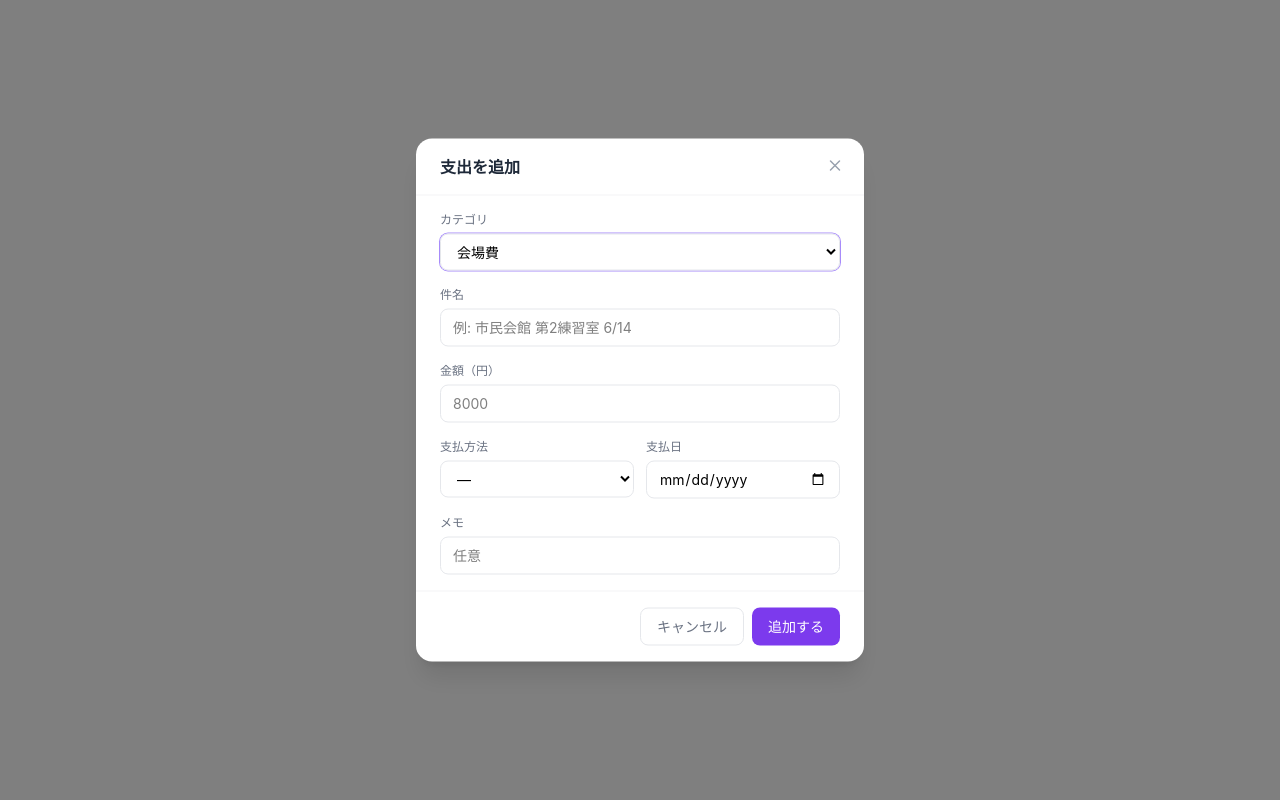
it: ExpenseModal（新規追加） › 金額が0以下の場合はエラーを表示する
Type "テスト" into the field with placeholder "例: 市民会館 第2練習室 6/14".
click(640, 328); type("テスト")  # box x1=440 y1=308 x2=840 y2=346
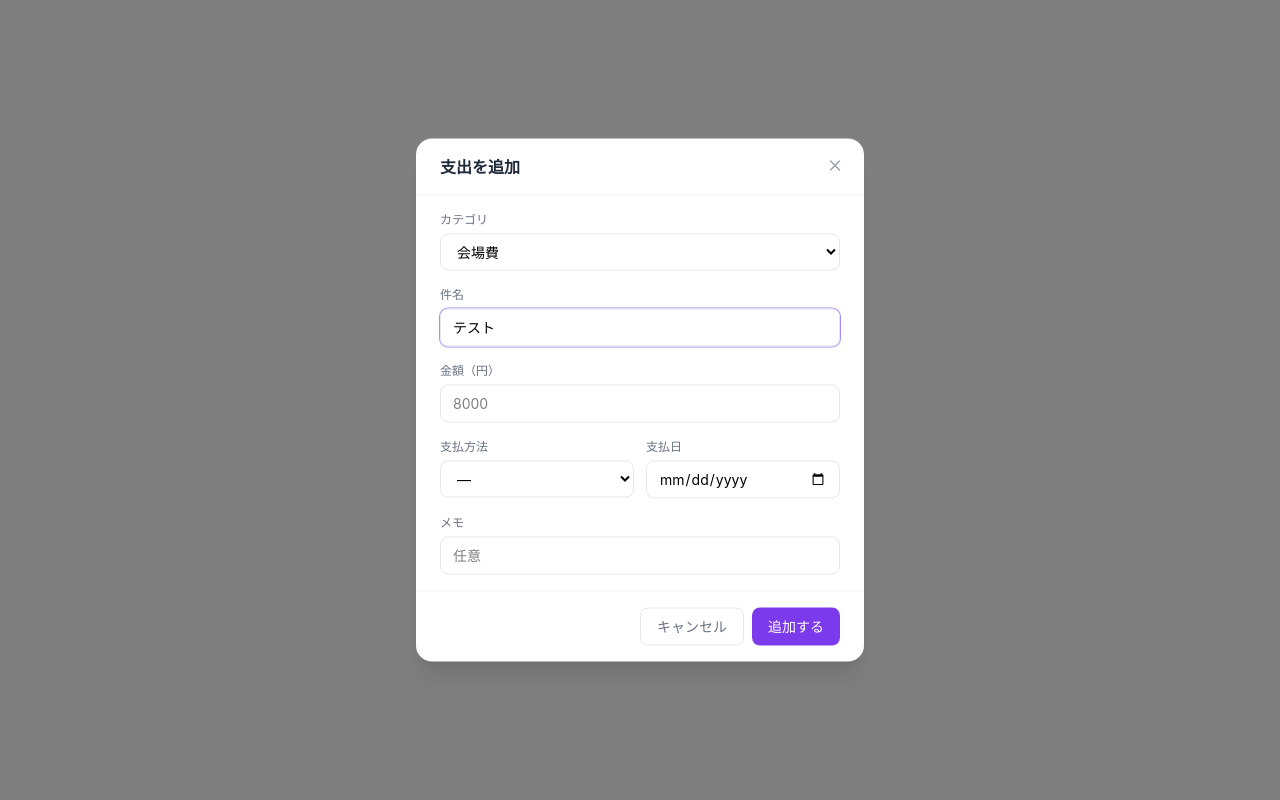
Type "0" into the number field with placeholder "8000".
click(640, 404); type("0")  # box x1=440 y1=384 x2=840 y2=422
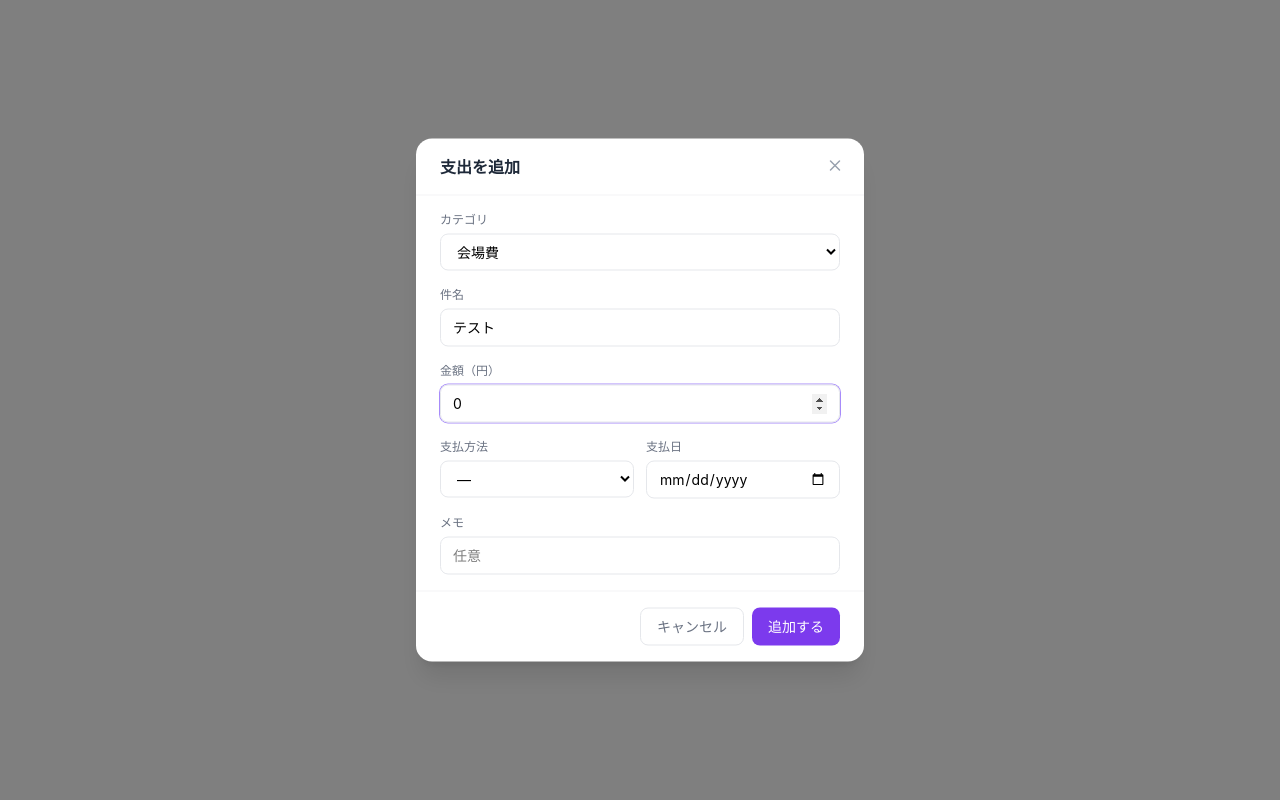
Submit the form, box x1=416 y1=196 x2=864 y2=662
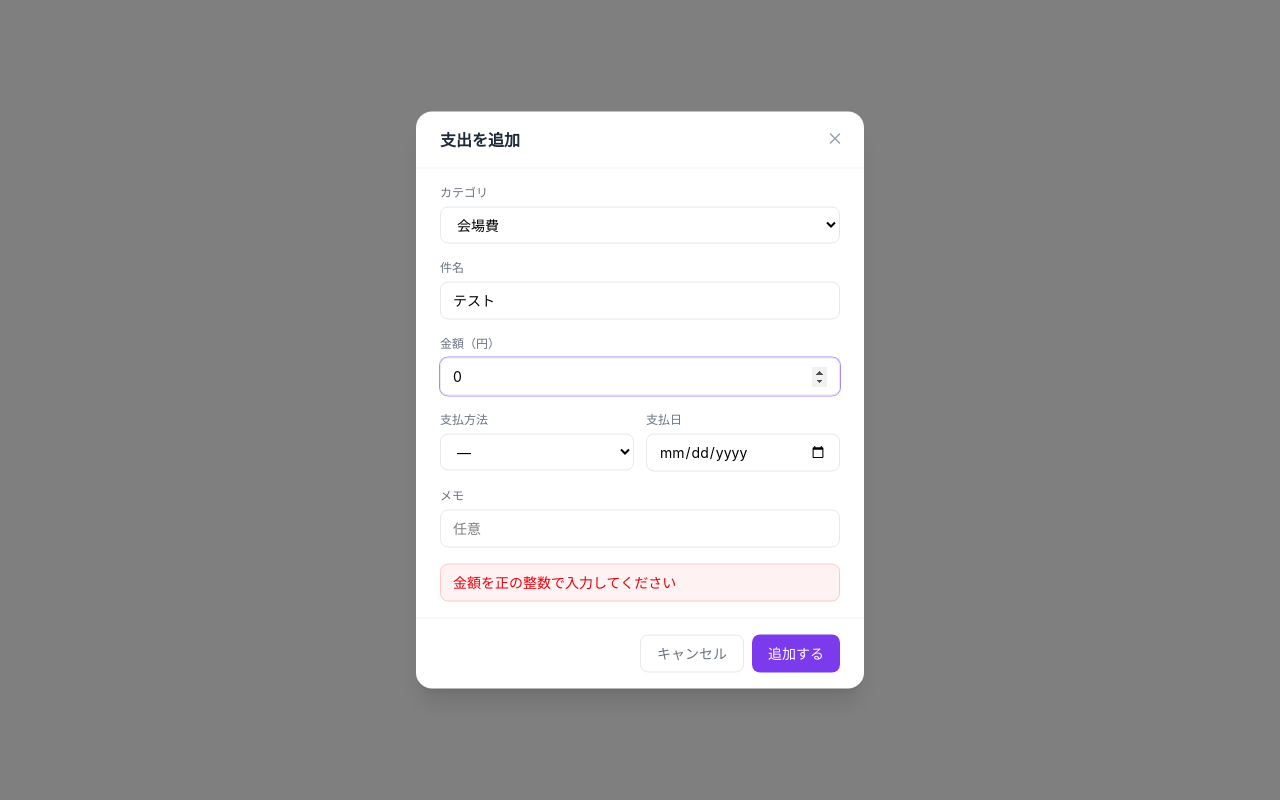
Now the text "金額を正の整数で入力してください" is shown, box x1=440 y1=564 x2=840 y2=602
